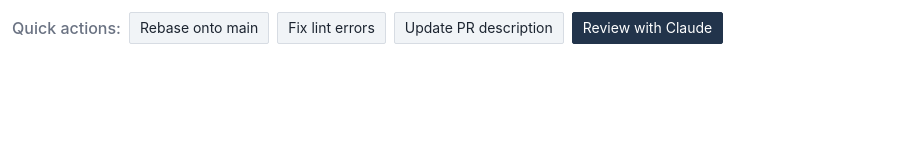
Test case: prefers the work item target over the workspace and reports a failed request in the status region
What coordinates should you click on to do the following:
click the button "Review with Claude"
I would click on:
 (648, 28)
Its box is [572,12,723,44].
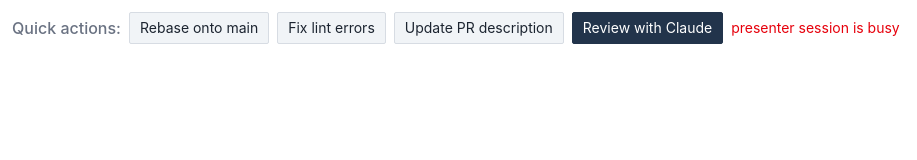
Expected: the message reads "presenter session is busy", [731,19,900,36]
